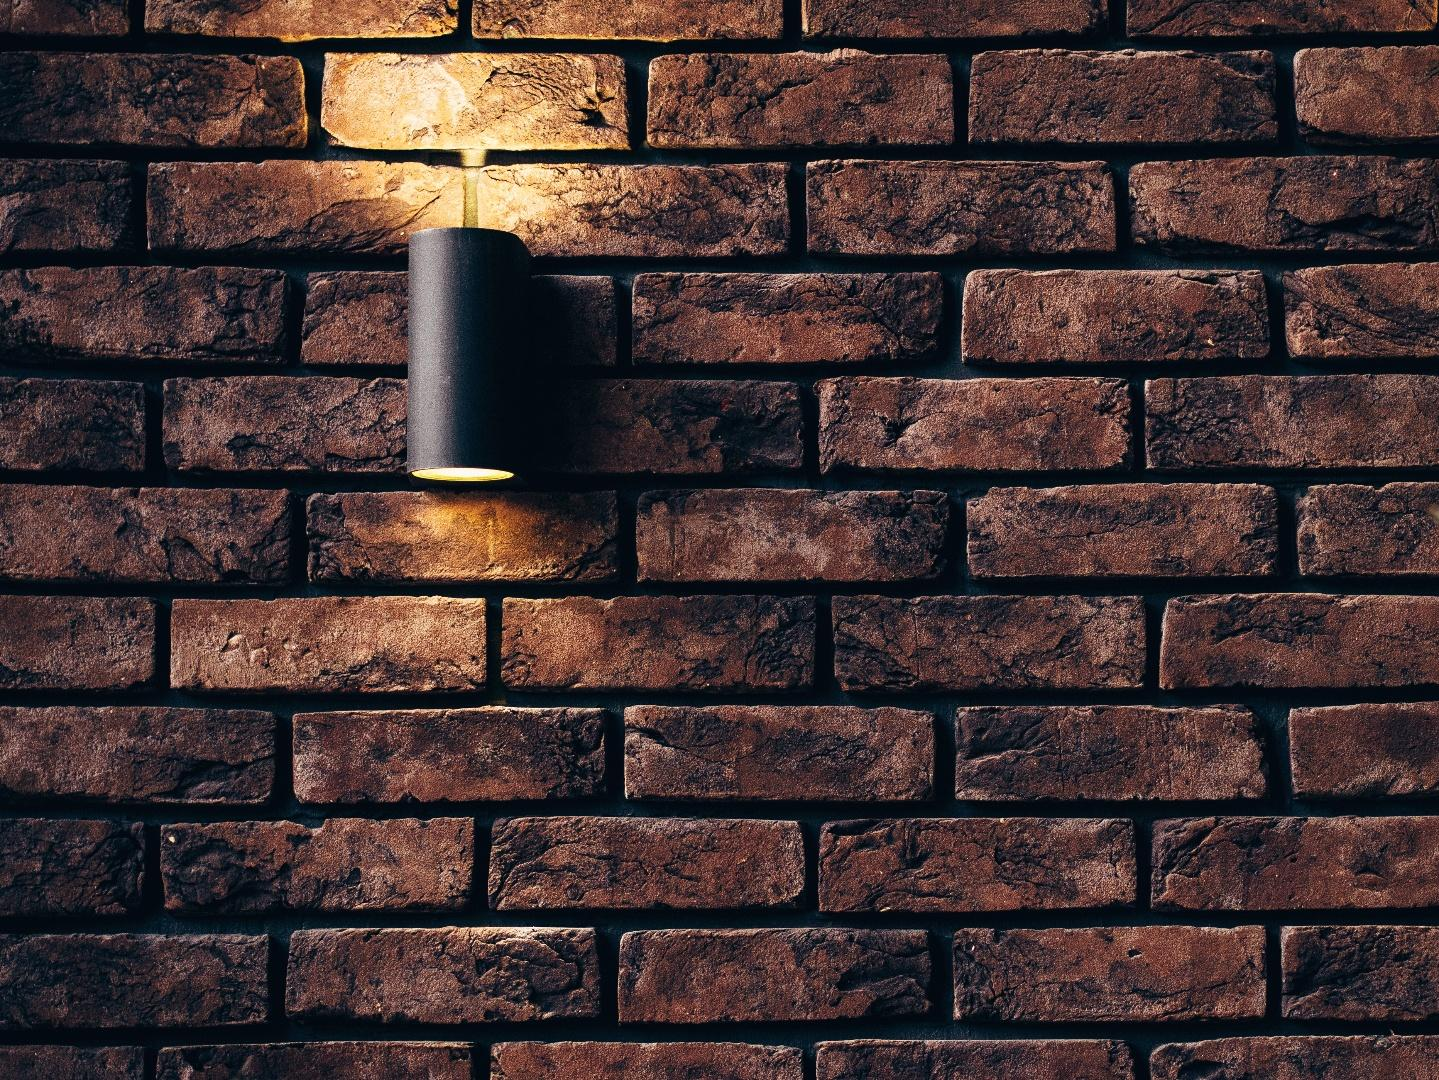trashbox-cardboard: (1207, 243, 1439, 627)
